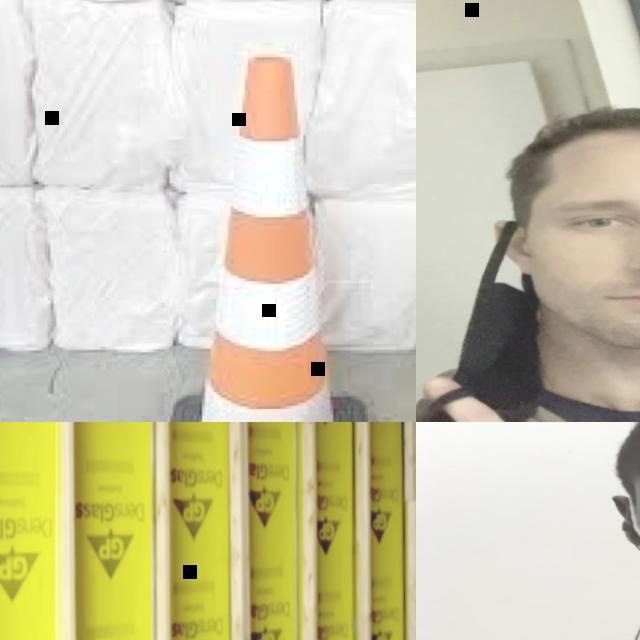NO-Hardhat: (494, 106, 640, 176)
NO-Mask: (500, 241, 640, 350)
Person: (416, 98, 640, 422), (416, 422, 640, 640)
Safety Cone: (142, 50, 387, 422)
